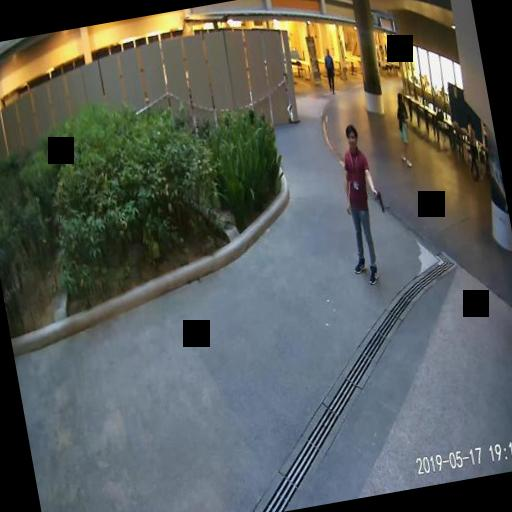Handgun: (372, 190, 384, 214)
